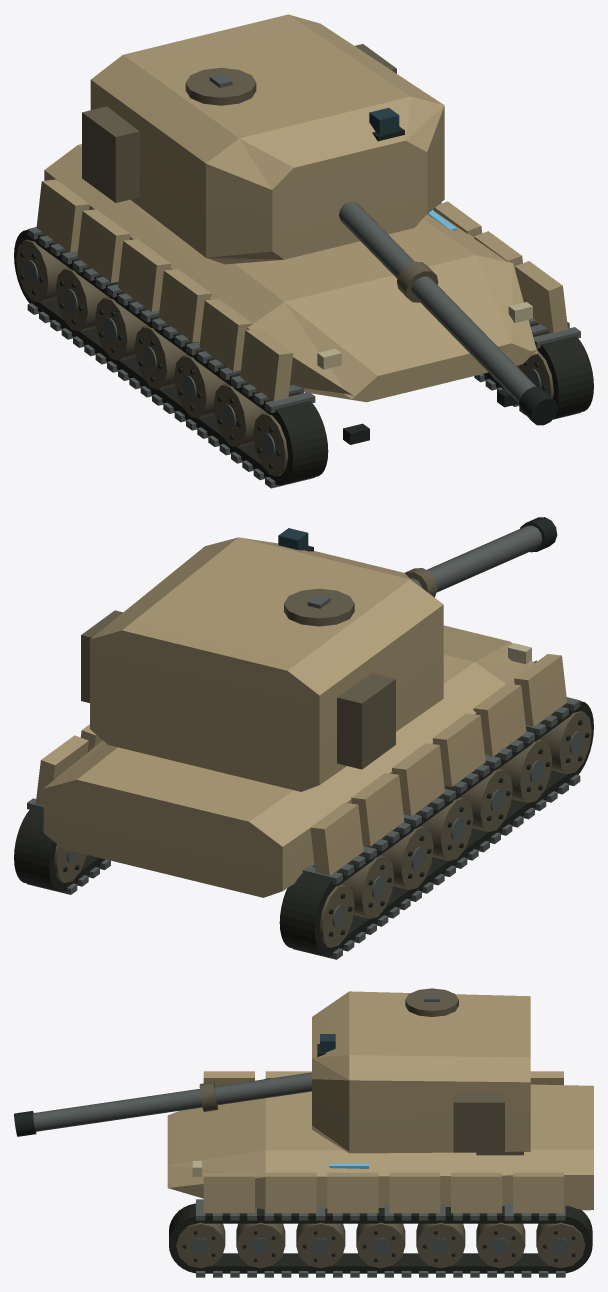
File: artillery.glb
3 renders of one model, top to bottom at view 1: azimuth 30°, elevation 25°; view 2: azimuth 150°, elevation 25°; view 3: azimuth 270°, elevation 25°, orthographic. The views are drawn at different scales.
Parts seen in each view (by area): view 1: armor (×2), equipment (×3), glass; view 2: armor (×2), equipment (×3); view 3: armor (×2), equipment (×3).
Part boxes in pixels (x1,y1,x2,y2): armor (×2): (36, 14, 567, 402); equipment (×3): (14, 44, 593, 488); glass: (369, 108, 399, 134); armor (×2): (35, 537, 566, 897); equipment (×3): (14, 517, 593, 959); armor (×2): (167, 991, 593, 1213); equipment (×3): (14, 988, 592, 1277).
Size of the model in its own units: 3.46 by 2.86 by 7.34.
